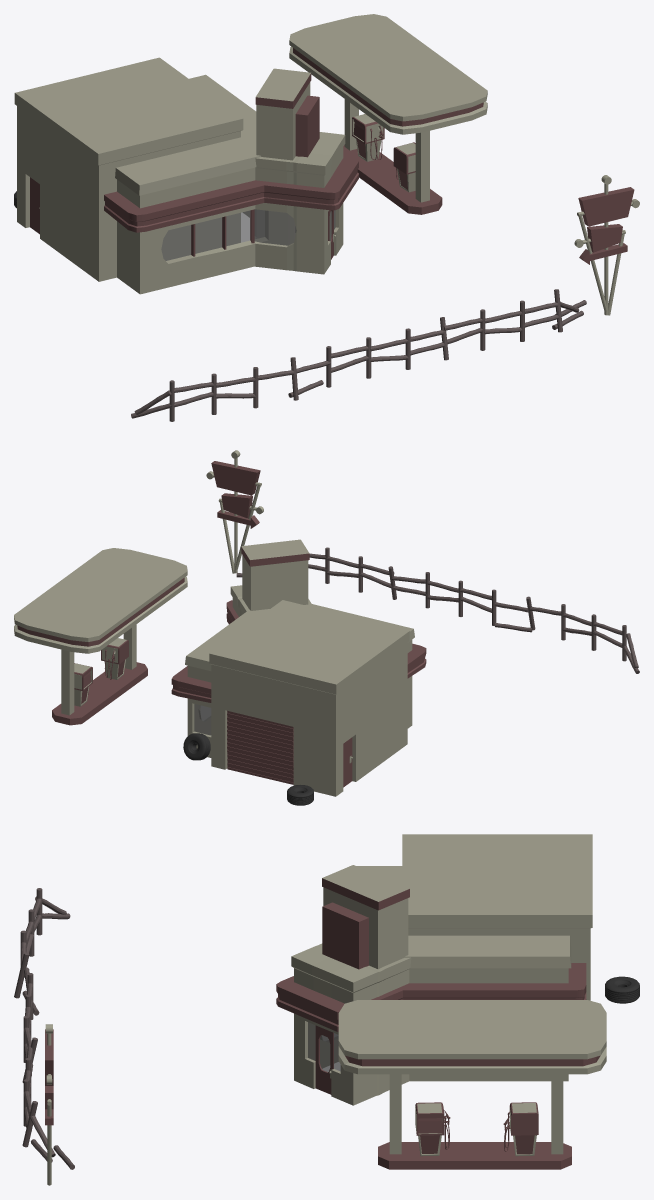
The model's file is GasTation.fbx.
3 views of the same model, one above another, from view 1: azimuth 30°, elevation 25°; view 2: azimuth 150°, elevation 25°; view 3: azimuth 270°, elevation 25° (orthographic). The views are drawn at different scales.
Parts seen in each view (by area): view 1: gasStationUV:polySurface49, gasStationUV:polySurface13, gsFence, gasStationUV:pCube5, gasHavenSign, gasStationUV:polySurface41, gasStationUV:pCube22, pCylinder10, gasPump:pCylinder10, gasStationUV:polySurface50; view 2: gasStationUV:polySurface49, gasStationUV:polySurface13, gsFence, polySurface52, gasStationUV:pCube22, gasHavenSign, gasStationUV:pCube5, gasPump:pCylinder10, pCylinder10, gsTire01, gasStationUV:polySurface41; view 3: gasStationUV:polySurface49, gasStationUV:polySurface13, gasStationUV:pCube22, gasStationUV:pCube5, gsFence, gasPump:pCylinder10, pCylinder10, gasHavenSign, gasStationUV:polySurface41, gstire02, gasStationUV:polySurface50.
Boxes of the visible parts, x1,y1,x2,y2 form: gasStationUV:polySurface49: (14,57,345,294); gasStationUV:polySurface13: (289,14,487,134); gsFence: (131,289,586,421); gasStationUV:pCube5: (104,155,358,232); gasHavenSign: (574,175,639,315); gasStationUV:polySurface41: (161,209,335,260); gasStationUV:pCube22: (343,99,442,214); pCylinder10: (352,114,384,161); gasPump:pCylinder10: (393,142,415,192); gasStationUV:polySurface50: (30,177,333,259); gasStationUV:polySurface49: (185,539,414,796); gasStationUV:polySurface13: (14,548,187,653); gsFence: (236,547,639,673); polySurface52: (227,710,293,784); gasStationUV:pCube22: (52,624,147,725); gasHavenSign: (206,450,263,573); gasStationUV:pCube5: (171,600,426,702); gasPump:pCylinder10: (101,638,128,679); pCylinder10: (74,663,92,706); gsTire01: (183,733,210,760); gasStationUV:polySurface41: (194,704,211,735); gasStationUV:polySurface49: (291,834,592,1105); gasStationUV:polySurface13: (338,1000,606,1074); gasStationUV:pCube22: (378,1074,571,1169); gasStationUV:pCube5: (276,963,586,1031); gsFence: (14,888,74,1169); gasPump:pCylinder10: (415,1102,450,1156); pCylinder10: (503,1102,538,1156); gasHavenSign: (45,1024,53,1185); gasStationUV:polySurface41: (308,1022,340,1071); gstire02: (605,976,639,1003); gasStationUV:polySurface50: (315,1025,333,1094).
Bounding box in the file's own units: 57.52 × 19.1 × 54.77.
